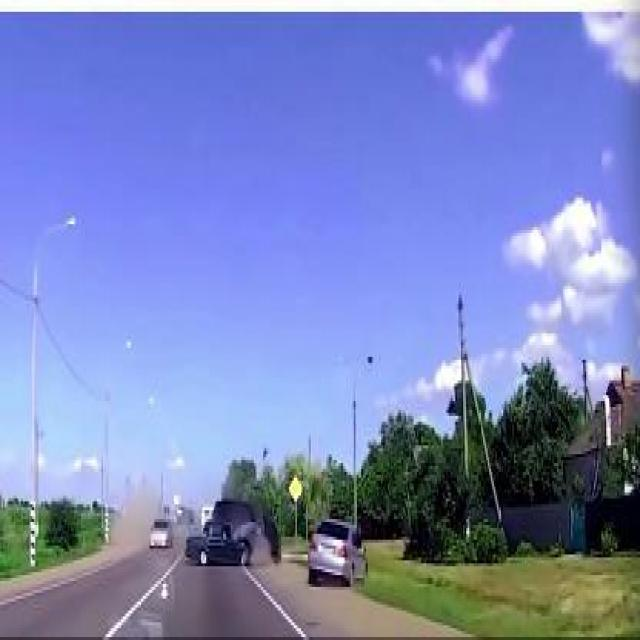accident: (183, 493, 279, 569)
